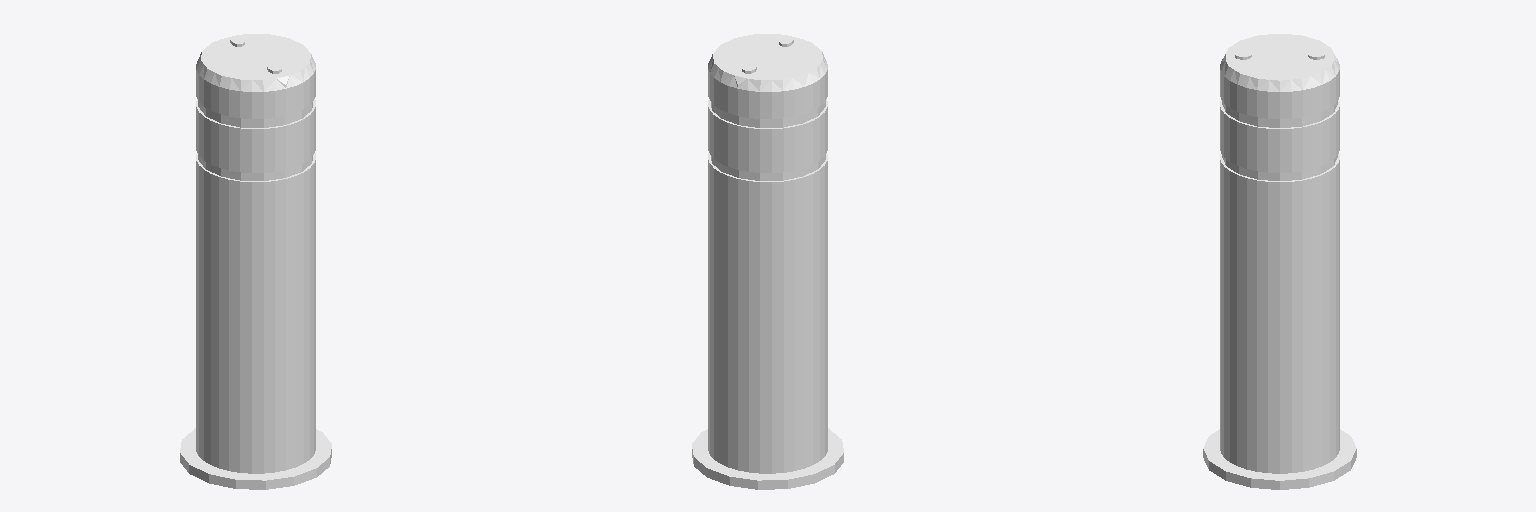
Rendered from trafficbarrier.obj.
3 views of the same model, side by side, from view 1: azimuth 30°, elevation 25°; view 2: azimuth 150°, elevation 25°; view 3: azimuth 270°, elevation 25° (orthographic).
Visible parts, largest first — view 1: Cylinder1; view 2: Cylinder1; view 3: Cylinder1.
Part boxes in pixels (x1,y1,x2,y2): Cylinder1: (180,34,331,489); Cylinder1: (692,34,843,489); Cylinder1: (1203,34,1356,489).
Size of the model in its own units: 0.7615 by 2.21 by 0.7615.